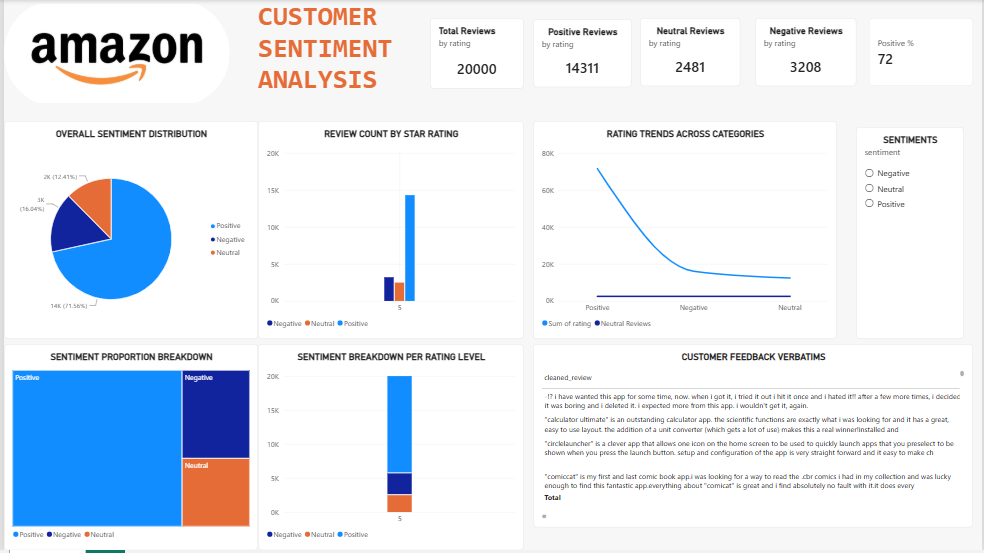

The dashboard page shown, as its layout file describes it:
{"tool":"powerbi","page":{"name":"Page 1","canvas":[1920,1080],"ordinal":0},"visuals":[{"type":"image","box":[0,0,443.5,209.1],"z":0},{"type":"pieChart","title":"OVERALL SENTIMENT DISTRIBUTION","fields":{"Category":["amazon_reviews.sentiment"],"Y":["amazon_reviews.Total Reviews"]},"box":[0,236.9,498.9,428.3],"z":1000},{"type":"clusteredColumnChart","title":"REVIEW COUNT BY STAR RATING","fields":{"Category":["amazon_reviews.rating"],"Series":["amazon_reviews.sentiment"],"Y":["amazon_reviews.Total Reviews"]},"box":[498.9,236.9,521.6,428.3],"z":2000},{"type":"treemap","title":"SENTIMENT PROPORTION BREAKDOWN","fields":{"Group":["amazon_reviews.sentiment"],"Values":["amazon_reviews.Total Reviews"]},"box":[0,675,499,405],"z":3000},{"type":"kpi","fields":{"Indicator":["amazon_reviews.Total Reviews"],"TrendLine":["amazon_reviews.rating"]},"box":[836.5,35.3,183.9,138.6],"z":3001},{"type":"kpi","fields":{"Indicator":["amazon_reviews.Positive Reviews"],"TrendLine":["amazon_reviews.rating"]},"box":[1038.1,37.8,194,133.5],"z":3002},{"type":"kpi","fields":{"Indicator":["amazon_reviews.Neutral Reviews"],"TrendLine":["amazon_reviews.rating"]},"box":[1249.8,35.3,196.5,133.5],"z":3003},{"type":"kpi","fields":{"Indicator":["amazon_reviews.Negative Reviews"],"TrendLine":["amazon_reviews.rating"]},"box":[1474,35.3,199.1,133.5],"z":3004},{"type":"cardVisual","title":"POSTIVE ","fields":{"Data":["amazon_reviews.Positive %"]},"box":[1698.3,35.3,204.1,133.5],"z":3005},{"type":"textbox","box":[499,877,522,203],"z":3006},{"type":"listSlicer","title":"SENTIMENTS","fields":{"Values":["amazon_reviews.sentiment"]},"box":[1673.1,249.4,211.7,415.7],"z":3007},{"type":"ribbonChart","title":"SENTIMENT BREAKDOWN PER RATING LEVEL","fields":{"Category":["amazon_reviews.rating"],"Series":["amazon_reviews.sentiment"],"Y":["amazon_reviews.Total Reviews"]},"box":[499,675,522,405],"z":3008},{"type":"lineChart","title":"RATING TRENDS ACROSS CATEGORIES","fields":{"Category":["amazon_reviews.sentiment"],"Y":["Sum(amazon_reviews.rating)","amazon_reviews.Neutral Reviews"]},"box":[1038.1,236.9,597.2,428.3],"z":3010},{"type":"pivotTable","title":"CUSTOMER FEEDBACK VERBATIMS","fields":{"Columns":["amazon_reviews.sentiment","amazon_reviews.rating"],"Rows":["amazon_reviews.cleaned_review"],"Values":["Min(amazon_reviews.reviewText)"]},"box":[1038.1,675.3,864.3,360.3],"z":3011},{"type":"textbox","box":[499,0,338,209],"z":3012}]}

Visuals, with their boxes in screenshot pixels (x1, y1, x2, y2), scaled from the page's 1920x1080 canvas onto the 984x553 screenshot:
image: (x1=0, y1=0, x2=227, y2=107)
"OVERALL SENTIMENT DISTRIBUTION" pieChart: (x1=0, y1=121, x2=256, y2=341)
"REVIEW COUNT BY STAR RATING" clusteredColumnChart: (x1=256, y1=121, x2=523, y2=341)
"SENTIMENT PROPORTION BREAKDOWN" treemap: (x1=0, y1=346, x2=256, y2=552)
kpi - amazon_reviews.Total Reviews x amazon_reviews.rating: (x1=429, y1=18, x2=523, y2=89)
kpi - amazon_reviews.Positive Reviews x amazon_reviews.rating: (x1=532, y1=19, x2=631, y2=88)
kpi - amazon_reviews.Neutral Reviews x amazon_reviews.rating: (x1=641, y1=18, x2=741, y2=86)
kpi - amazon_reviews.Negative Reviews x amazon_reviews.rating: (x1=755, y1=18, x2=857, y2=86)
"POSTIVE " cardVisual: (x1=870, y1=18, x2=975, y2=86)
textbox: (x1=256, y1=449, x2=523, y2=552)
"SENTIMENTS" listSlicer: (x1=857, y1=128, x2=966, y2=341)
"SENTIMENT BREAKDOWN PER RATING LEVEL" ribbonChart: (x1=256, y1=346, x2=523, y2=552)
"RATING TRENDS ACROSS CATEGORIES" lineChart: (x1=532, y1=121, x2=838, y2=341)
"CUSTOMER FEEDBACK VERBATIMS" pivotTable: (x1=532, y1=346, x2=975, y2=530)
textbox: (x1=256, y1=0, x2=429, y2=107)
